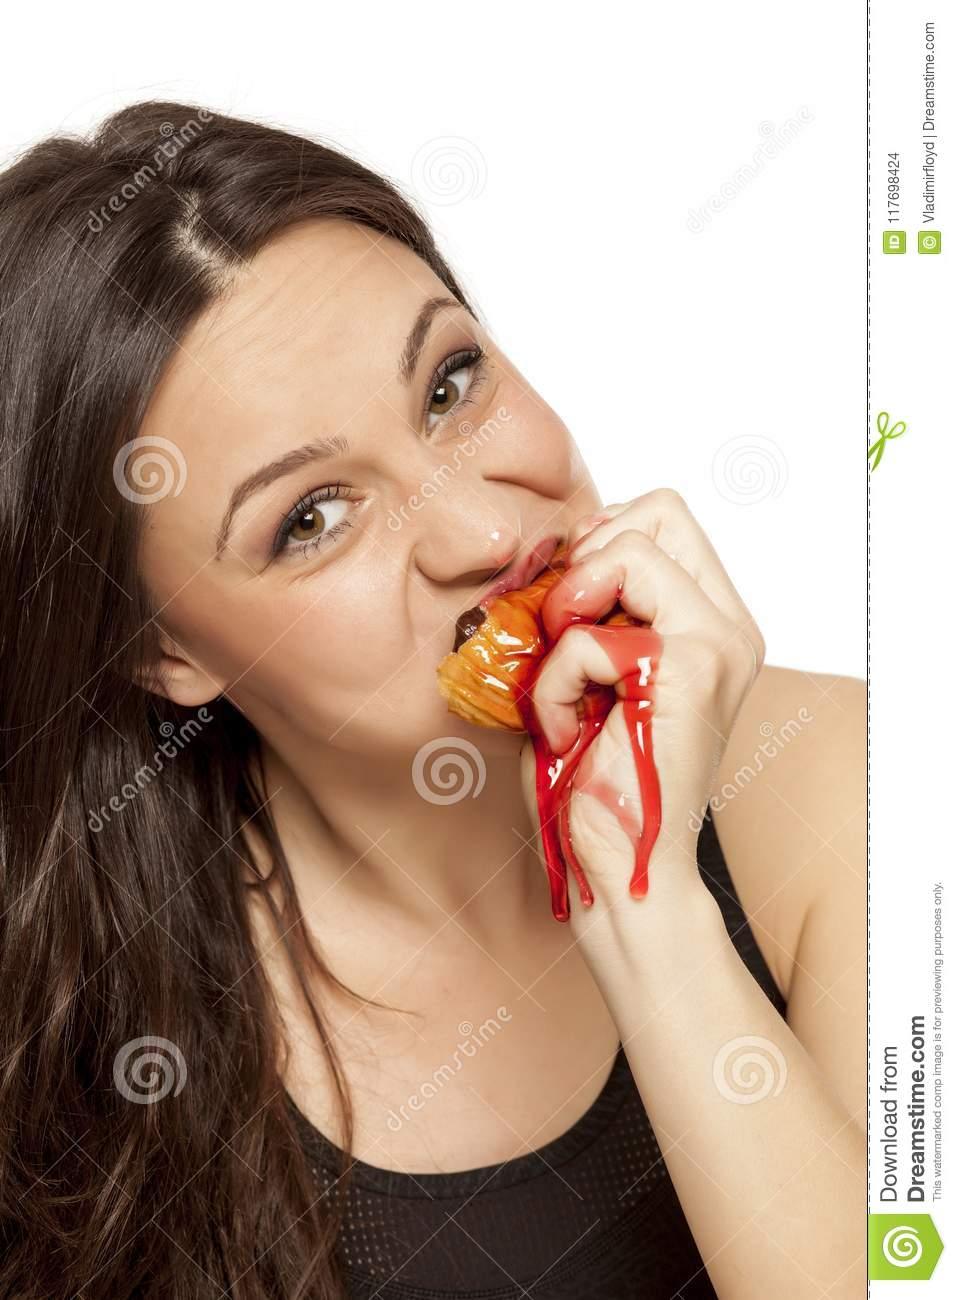eating: (4, 82, 822, 1096)
